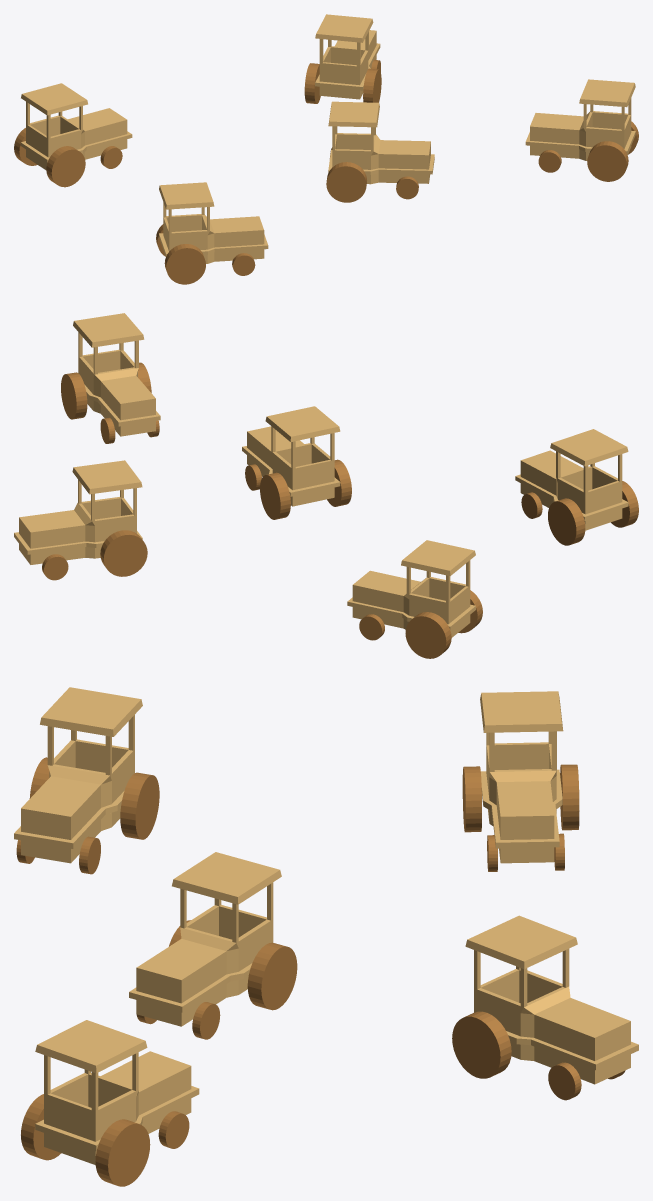
The model's file is Toys.fbx.
3 renders of one model, top to bottom at view 1: azimuth 30°, elevation 25°; view 2: azimuth 150°, elevation 25°; view 3: azimuth 270°, elevation 25°, orthographic. The views are drawn at different scales.
Visible parts, largest first — view 1: ToyTractor.002, ToyTractor.004, ToyTractor.003, ToyTractor, ToyTractor.001, WheelBL.004, WheelBR, WheelBR.003, WheelBR.002, WheelBR.001, WheelBL.001, WheelFR (+3 smaller); view 2: ToyTractor.001, ToyTractor.002, ToyTractor.003, ToyTractor.004, ToyTractor, WheelBL.001, WheelBL.002, WheelBL.003, WheelBL, WheelBR.004, WheelBR, WheelBR.003 (+2 smaller); view 3: ToyTractor.001, ToyTractor, ToyTractor.004, ToyTractor.003, ToyTractor.002, WheelBR.001, WheelBR.004, WheelBL, WheelBL.003, WheelBR.002, WheelBL.004, WheelBL.002 (+4 smaller).
Part boxes in pixels (x1,y1,x2,y2): ToyTractor.002: [20, 83, 132, 169]; ToyTractor.004: [525, 79, 635, 160]; ToyTractor.003: [159, 182, 268, 263]; ToyTractor: [328, 101, 434, 184]; ToyTractor.001: [315, 14, 380, 99]; WheelBL.004: [587, 141, 628, 181]; WheelBR: [326, 162, 366, 202]; WheelBR.003: [164, 244, 205, 284]; WheelBR.002: [46, 146, 85, 187]; WheelBR.001: [363, 68, 381, 102]; WheelBL.001: [304, 63, 320, 103]; WheelFR: [396, 176, 418, 199]; ToyTractor.001: [14, 460, 142, 564]; ToyTractor.002: [347, 540, 475, 637]; ToyTractor.003: [515, 429, 628, 530]; ToyTractor.004: [73, 313, 160, 436]; ToyTractor: [242, 406, 340, 506]; WheelBL.001: [100, 530, 147, 576]; WheelBL.002: [405, 612, 451, 658]; WheelBL.003: [548, 498, 585, 545]; WheelBL: [260, 472, 290, 519]; WheelBR.004: [61, 372, 87, 419]; WheelBR: [327, 459, 351, 506]; WheelBR.003: [611, 481, 638, 527]; ToyTractor.001: [465, 915, 638, 1084]; ToyTractor: [129, 852, 281, 1026]; ToyTractor.004: [35, 1020, 199, 1164]; ToyTractor.003: [14, 687, 142, 863]; ToyTractor.002: [480, 691, 563, 863]; WheelBR.001: [452, 1011, 511, 1078]; WheelBR.004: [95, 1119, 150, 1186]; WheelBL: [247, 942, 297, 1010]; WheelBL.003: [120, 772, 159, 839]; WheelBR.002: [462, 766, 481, 832]; WheelBL.004: [21, 1094, 61, 1160]; WheelBL.002: [560, 764, 579, 830].
Size of the model in its own units: 224 by 33.28 by 152.
